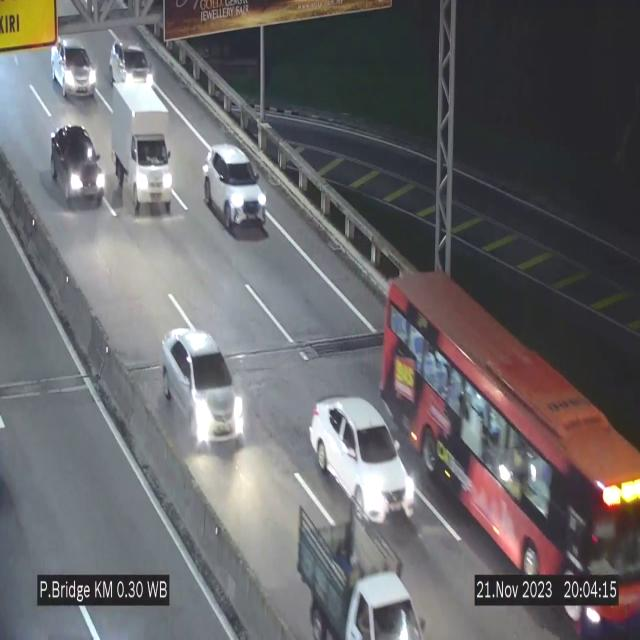Bus: (380, 272, 640, 640)
Car: (310, 397, 408, 520), (162, 328, 244, 447), (203, 144, 267, 232), (50, 123, 106, 209), (110, 42, 162, 114), (51, 37, 97, 100)
Truck: (298, 502, 428, 640), (111, 84, 175, 212)
